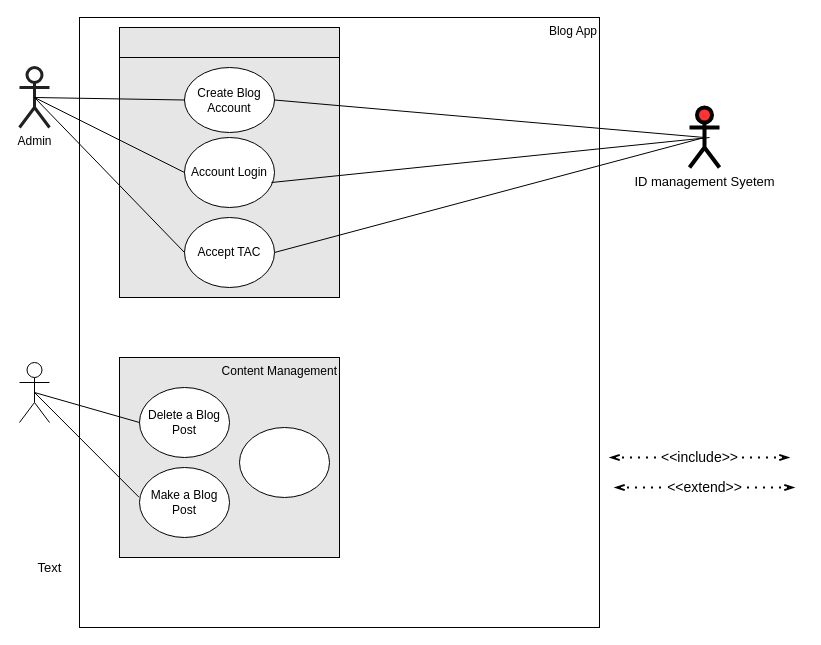
This 821x645 diagram has some shape labels left out. Each missing label, with the box of its shape:
Edit Blog Post: (238, 426, 330, 498)
User: (18, 362, 50, 422)
Web App: (118, 26, 340, 298)
